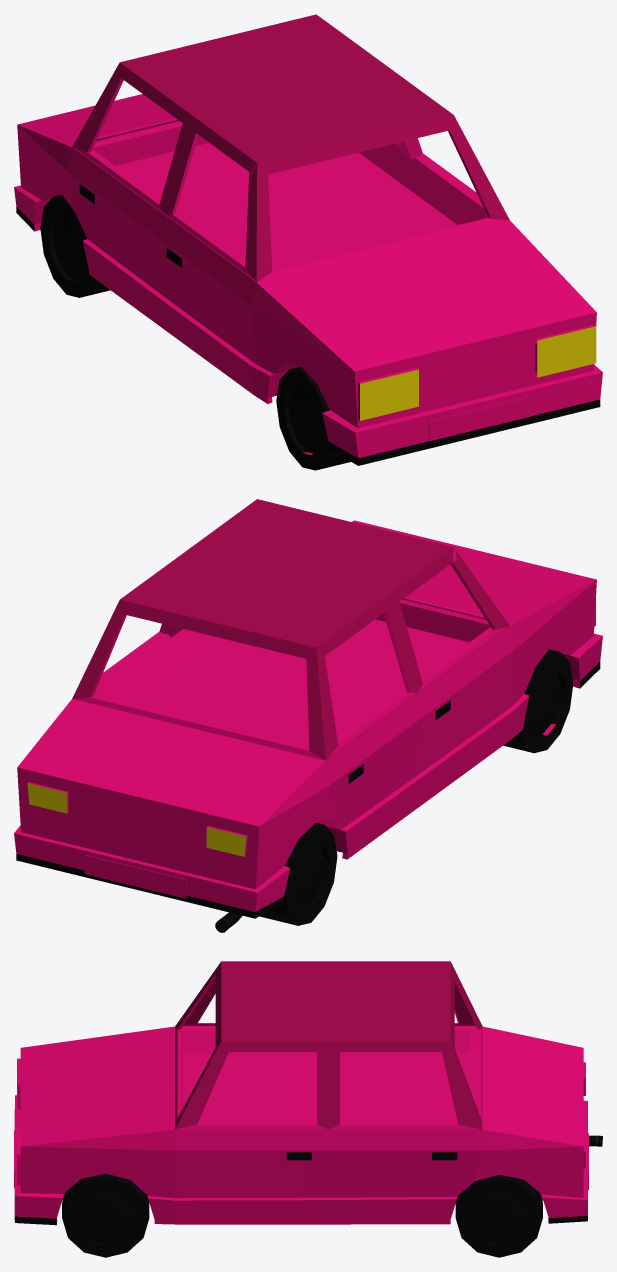
Rendered from Rare Red.fbx.
3 views of the same model, one above another, from view 1: azimuth 30°, elevation 25°; view 2: azimuth 150°, elevation 25°; view 3: azimuth 270°, elevation 25° (orthographic). The views are drawn at different scales.
Parts seen in each view (by area): view 1: RareSkin.001; view 2: RareSkin.001; view 3: RareSkin.001.
Boxes of the visible parts, left/top/right/bottom form: RareSkin.001: left=14, top=14, right=602, bottom=470; RareSkin.001: left=14, top=499, right=602, bottom=932; RareSkin.001: left=14, top=961, right=602, bottom=1257.
Size of the model in its own units: 165 by 145 by 375.
